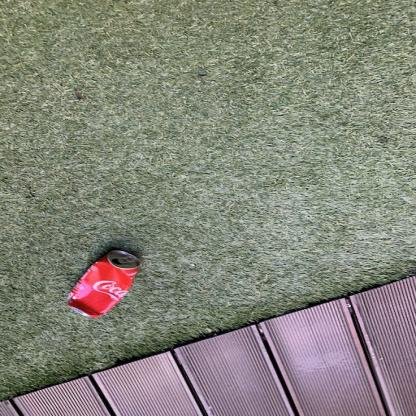trash: (64, 247, 142, 318)
